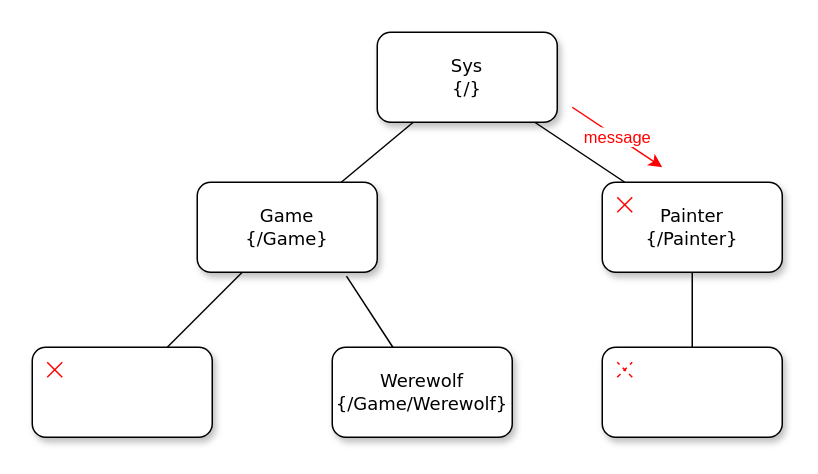
This 818x474 diagram has some shape labels left out. Here are the shapes that lost their labels. From the top down, the centre of each, then its label:
At [123,394]: "Chess {/Game/Chess}".
At [693,394]: "Assistant {/Painter/Assistant}".
